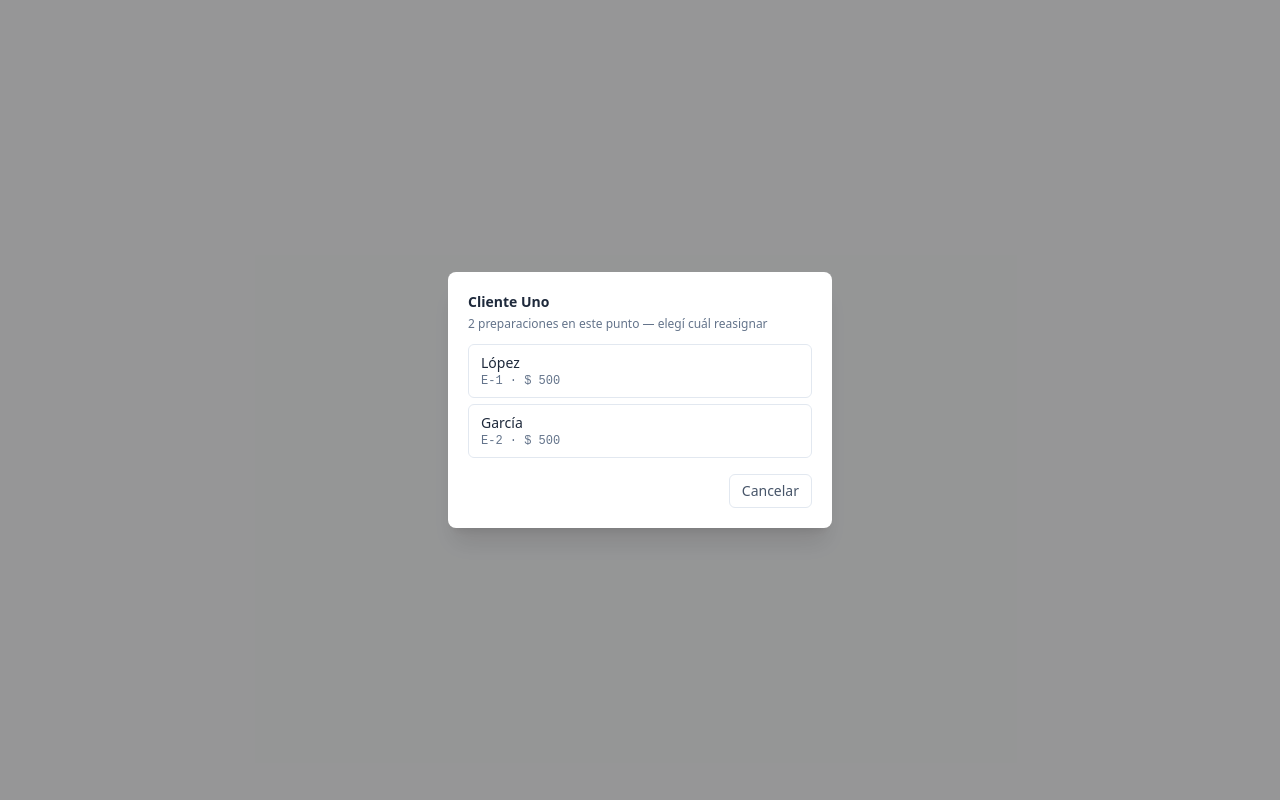
Test: MapaReasignarPanel › con varios items primero pide elegir la preparación
Expected: the text "2 preparaciones en este punto — elegí cuál reasignar" is shown, [468,316,812,332]
Click the button "García E-2 · $ 500" at (502, 422), box [468,404,812,458]
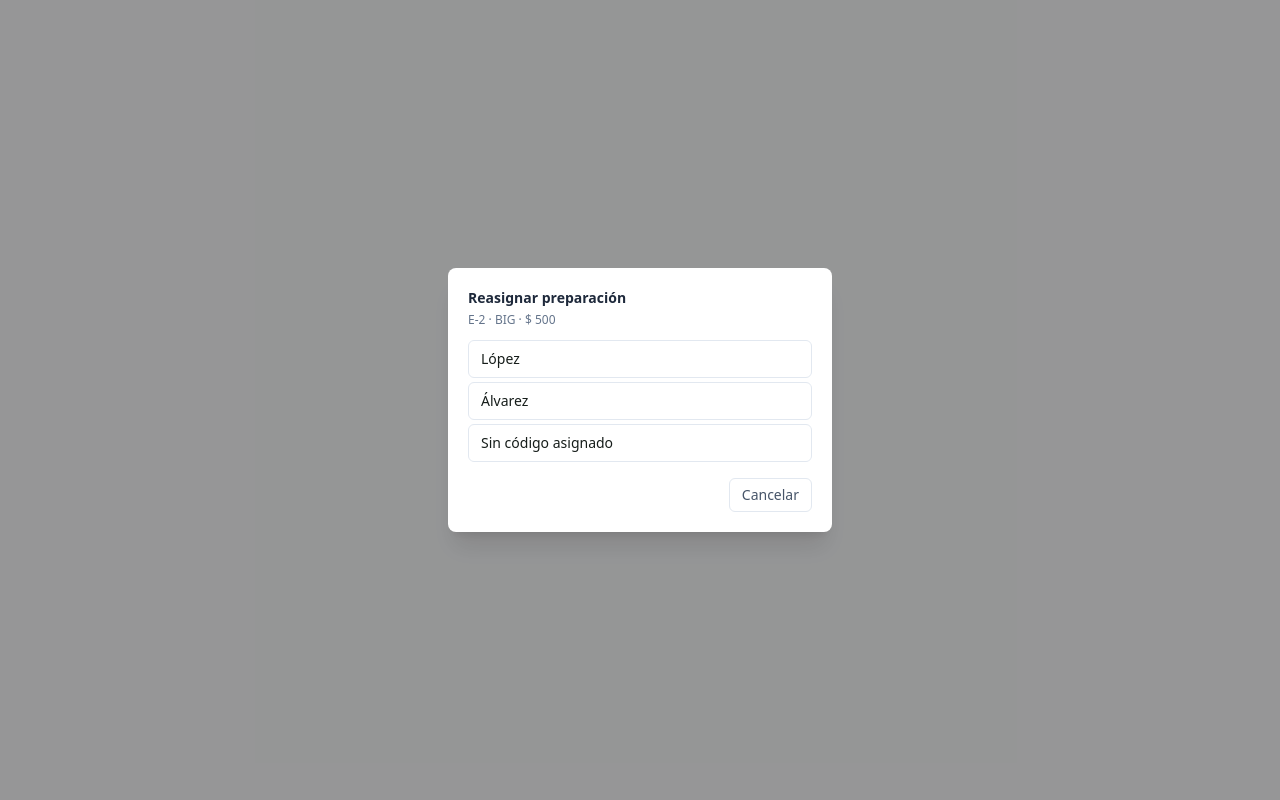
Expected: the heading "Reasignar preparación" is shown, [468,288,626,307]
